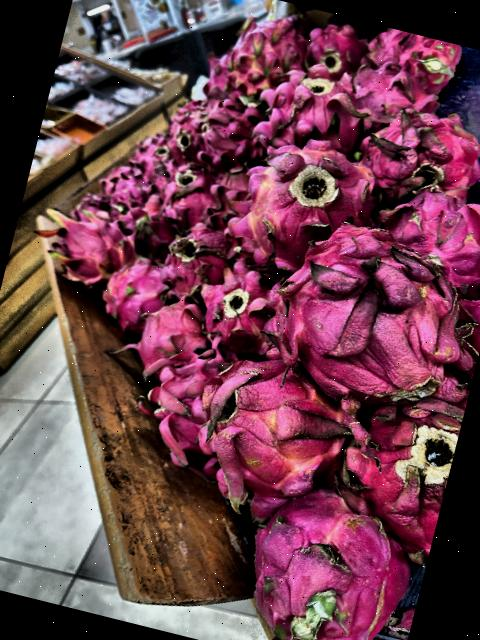buah-naga-belum-matang: (182, 348, 358, 513), (225, 134, 385, 274)
buah-naga-matang: (261, 212, 472, 410), (231, 472, 429, 640), (326, 372, 468, 548), (354, 93, 480, 202), (372, 172, 480, 296), (138, 339, 242, 462), (263, 58, 373, 154), (187, 252, 284, 358), (28, 202, 132, 288), (132, 292, 222, 374), (92, 241, 172, 333), (359, 22, 460, 84), (346, 59, 436, 120), (160, 218, 228, 292), (299, 18, 364, 76), (156, 160, 214, 220), (205, 166, 251, 231)
